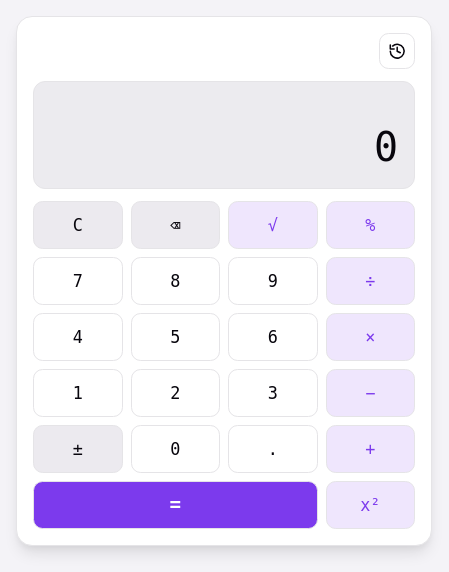
Test: Calculator › squares the current value via the x² key (unary, no second operand entry)
Click the button with test id "key-9" at {"x": 273, "y": 281}, box [228,257,318,305]
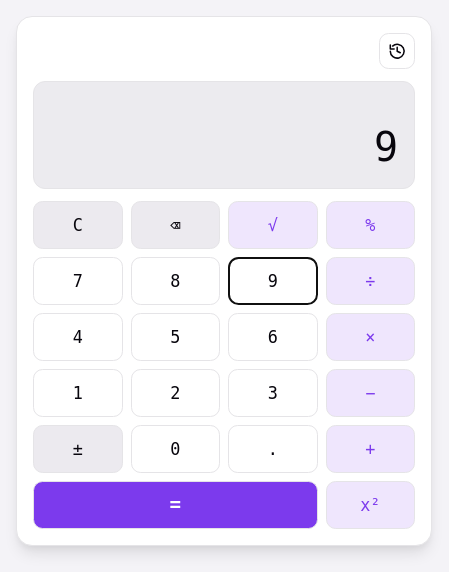
Click the button with test id "key-square" at {"x": 370, "y": 505}, box [326,481,415,529]
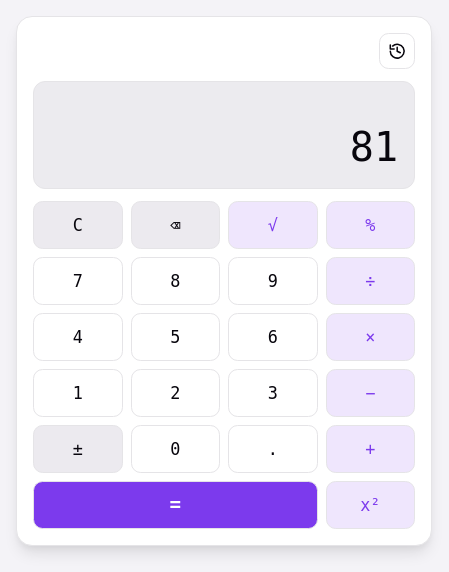
Expected: the text with test id "display-value" reads "81", [350,124,398,170]
